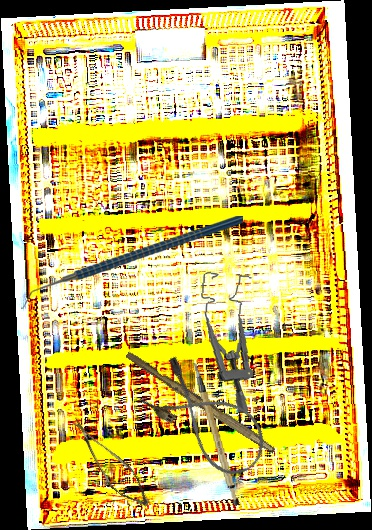Cannula: (134, 351, 279, 487)
Chopper: (21, 216, 243, 309)
Micro Scissor: (54, 417, 163, 512)
Scalpel Handle: (123, 350, 279, 454), (192, 359, 243, 509)
Speculum: (189, 270, 264, 414)
